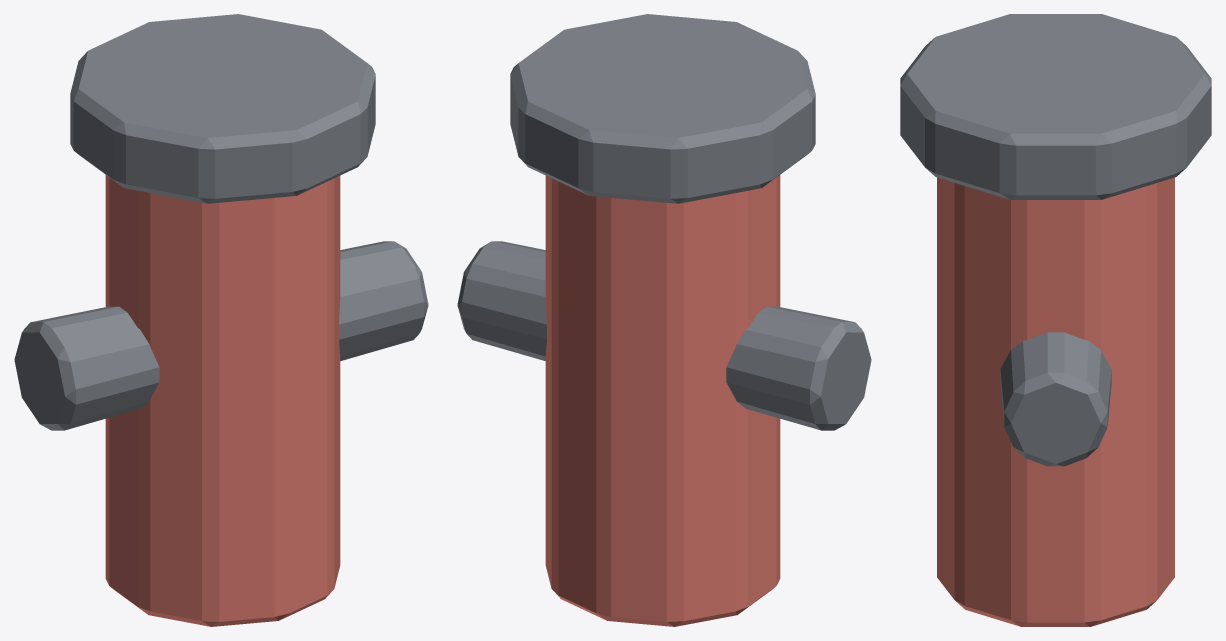
File: 街道_消防栓_01.fbx
3 views of the same model, side by side, from view 1: azimuth 30°, elevation 25°; view 2: azimuth 150°, elevation 25°; view 3: azimuth 270°, elevation 25° (orthographic).
Parts seen in each view (by area): view 1: 栓体, 顶盖.002, 出水口; view 2: 栓体, 顶盖.002, 出水口; view 3: 栓体, 顶盖.002, 出水口.
Boxes of the visible parts, box(x1,y1,x2,y2) form: 栓体: box(105, 175, 340, 626); 顶盖.002: box(70, 14, 375, 203); 出水口: box(14, 241, 428, 430); 栓体: box(545, 175, 780, 626); 顶盖.002: box(510, 14, 815, 203); 出水口: box(457, 241, 871, 430); 栓体: box(937, 177, 1174, 626); 顶盖.002: box(900, 14, 1211, 199); 出水口: box(1000, 332, 1111, 466).
Size of the model in its own units: 70 by 92 by 51.07.
